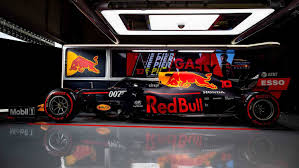FormulaOneCar: (7, 58, 293, 133)
